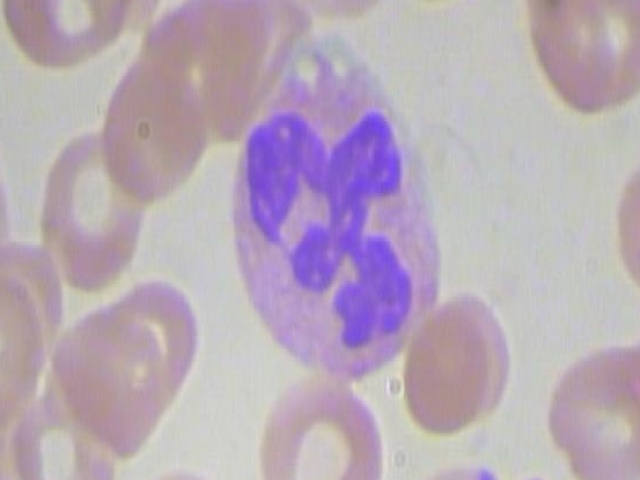RBC: (34, 123, 146, 302), (97, 33, 209, 211), (51, 300, 174, 456), (250, 373, 388, 480), (542, 336, 640, 480), (516, 0, 625, 122), (402, 297, 494, 437), (0, 0, 138, 73), (12, 401, 119, 480), (0, 266, 43, 433), (272, 0, 396, 31), (404, 451, 514, 480), (0, 389, 24, 480), (123, 464, 241, 480), (488, 472, 568, 480)
WBC: (218, 18, 451, 398)
